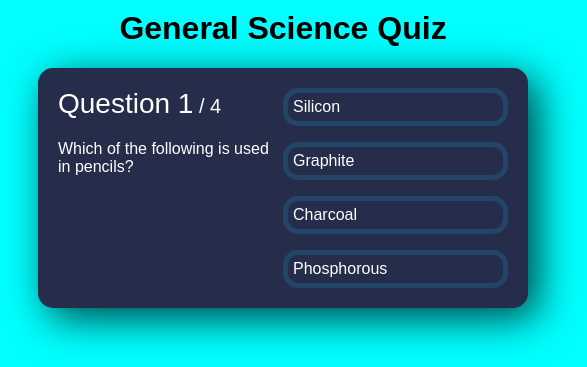
Test: Testing functionality of App component › Should display next question after some delay when option button of current question is clicked provided the current question is not the last
The image size is (587, 367).
Click the button "Silicon".
click(396, 107)  # box [283,88,508,126]
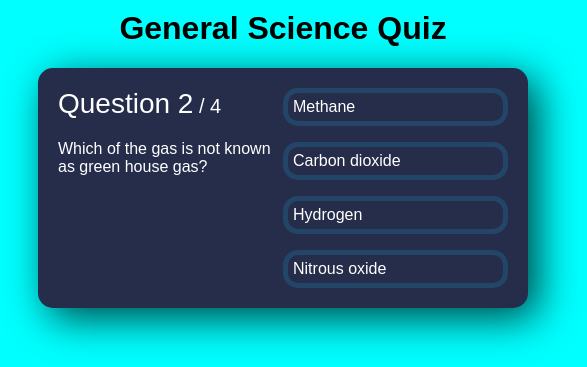
expect the text "Which of the gas is not known as green house gas?" is shown: met, box [58,140,283,176]
expect the text with test id "question-text" reads "Which of the gas is not known as green house gas?": met, box [58,140,271,175]
